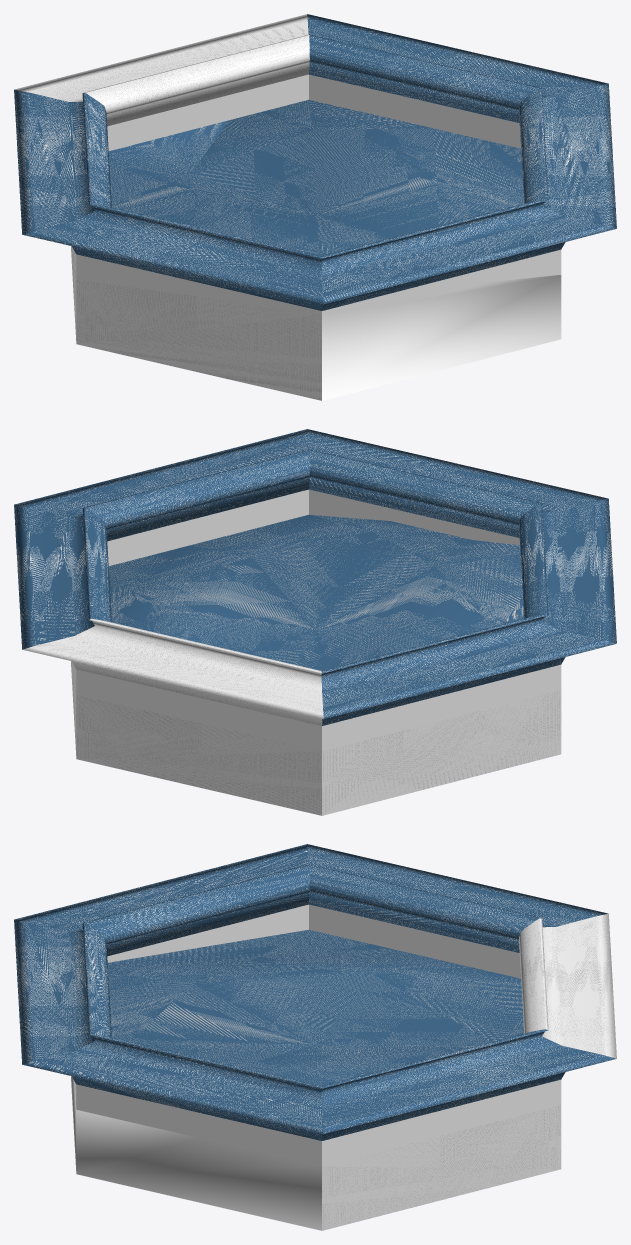
3 views of the same model, one above another, from view 1: azimuth 30°, elevation 25°; view 2: azimuth 150°, elevation 25°; view 3: azimuth 270°, elevation 25° (orthographic).
Parts seen in each view (by area): view 1: mesh1_mesh1-geometry; view 2: mesh1_mesh1-geometry; view 3: mesh1_mesh1-geometry.
Part boxes in pixels (x1,y1,x2,y2): mesh1_mesh1-geometry: (14, 14, 616, 400); mesh1_mesh1-geometry: (14, 429, 616, 815); mesh1_mesh1-geometry: (14, 844, 616, 1230).
Size of the model in its own units: 0.7415 by 0.1627 by 0.6509.
